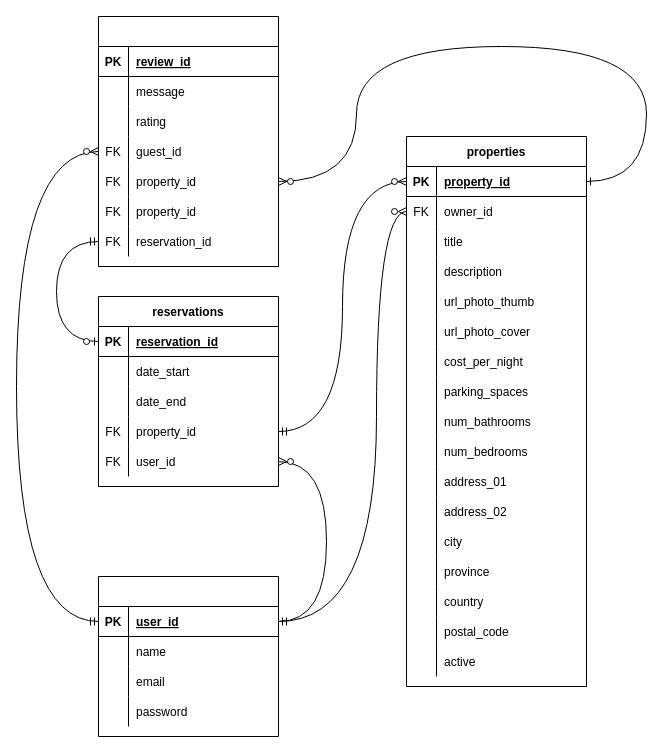
Some shapes in this 663 by 753 pixel diagram are drawn without their labels. The shapes that lost their labels are listed below. From the top down, each one's box as (x1, y1, x2, y2) in pixels, then its label:
(98, 16, 278, 266): property_reviews
(98, 576, 278, 736): users
